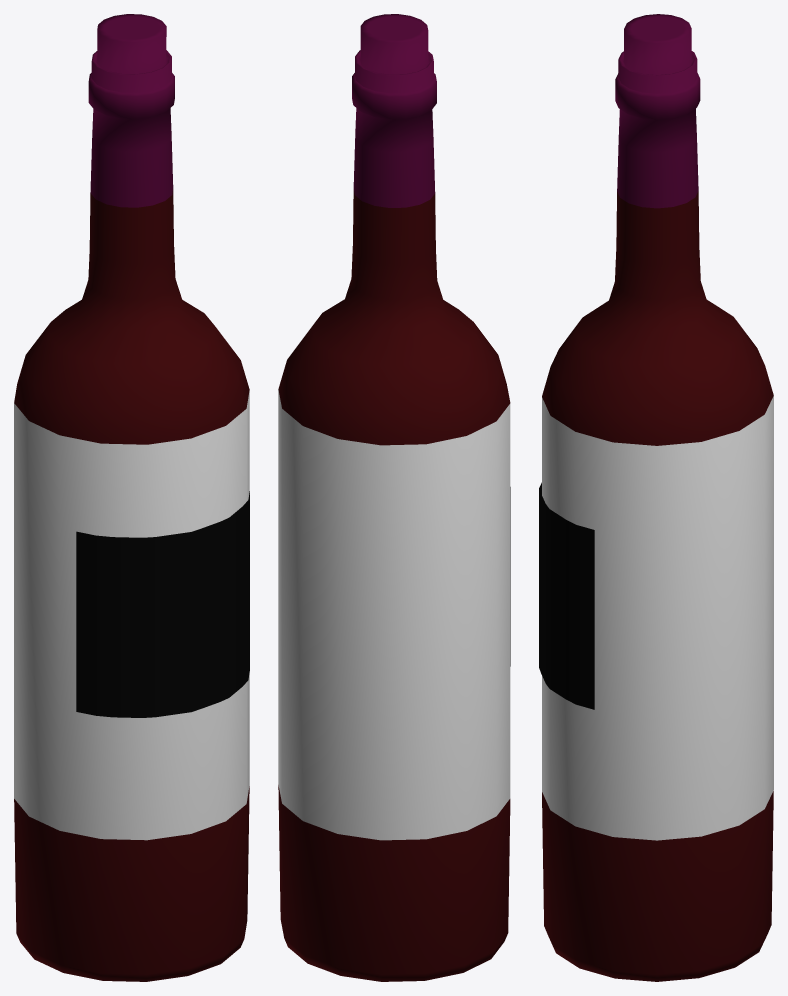
The model's file is Botella de vino.fbx.
3 views of the same model, side by side, from view 1: azimuth 30°, elevation 25°; view 2: azimuth 150°, elevation 25°; view 3: azimuth 270°, elevation 25° (orthographic).
Visible parts, largest first — view 1: Cylinder, Marcas Piratas-11; view 2: Cylinder; view 3: Cylinder, Marcas Piratas-11.
Part boxes in pixels (x1=…): Cylinder: x1=14, y1=14, x2=249, y2=981; Marcas Piratas-11: x1=76, y1=491, x2=249, y2=717; Cylinder: x1=278, y1=14, x2=510, y2=981; Cylinder: x1=542, y1=14, x2=773, y2=981; Marcas Piratas-11: x1=539, y1=482, x2=594, y2=709.
Bounding box in the file's own units: 41.21 × 175 × 40.93.
